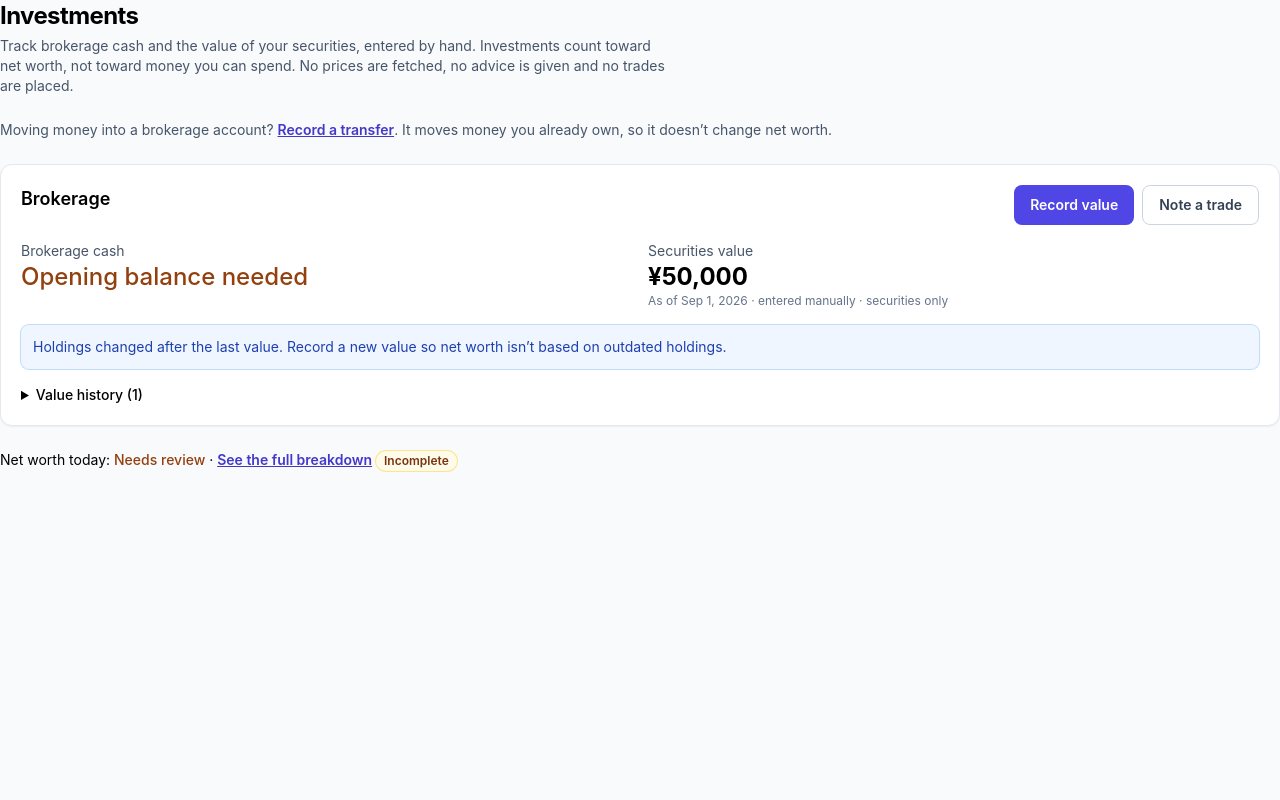
investments › warns when holdings changed after the last value and makes clear no trade is placed
Expected: the text "Holdings changed after the last value" is shown, top-left (33, 338), bottom-right (727, 355)
Expected: the text "Needs review" is shown, top-left (114, 451), bottom-right (205, 468)
What coordinates should you click on to do the following:
click the button named "Note a trade for Brokerage"
I would click on:
 (1201, 205)
Its box is top-left (1142, 185), bottom-right (1259, 225).
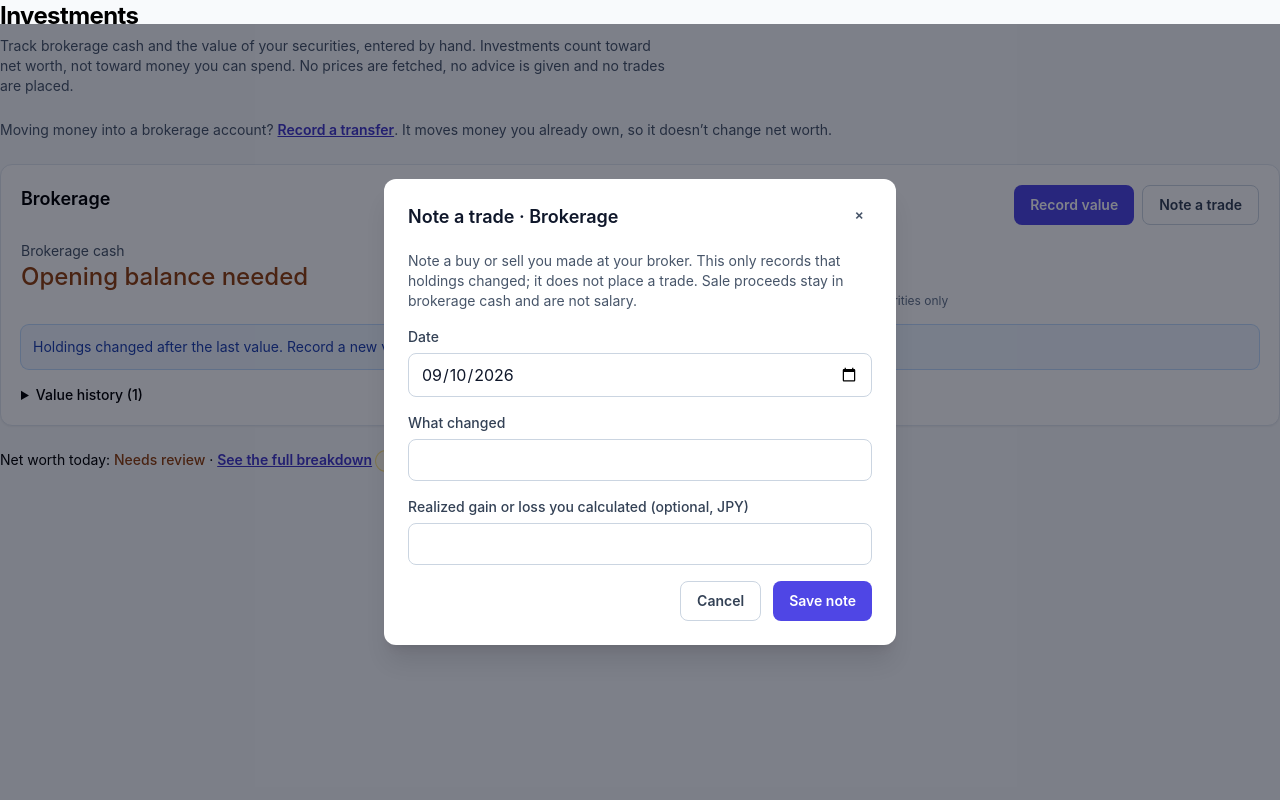
Expected: the text "Sale proceeds stay in brokerage cash and are not salary" is shown, top-left (408, 252), bottom-right (844, 309)
